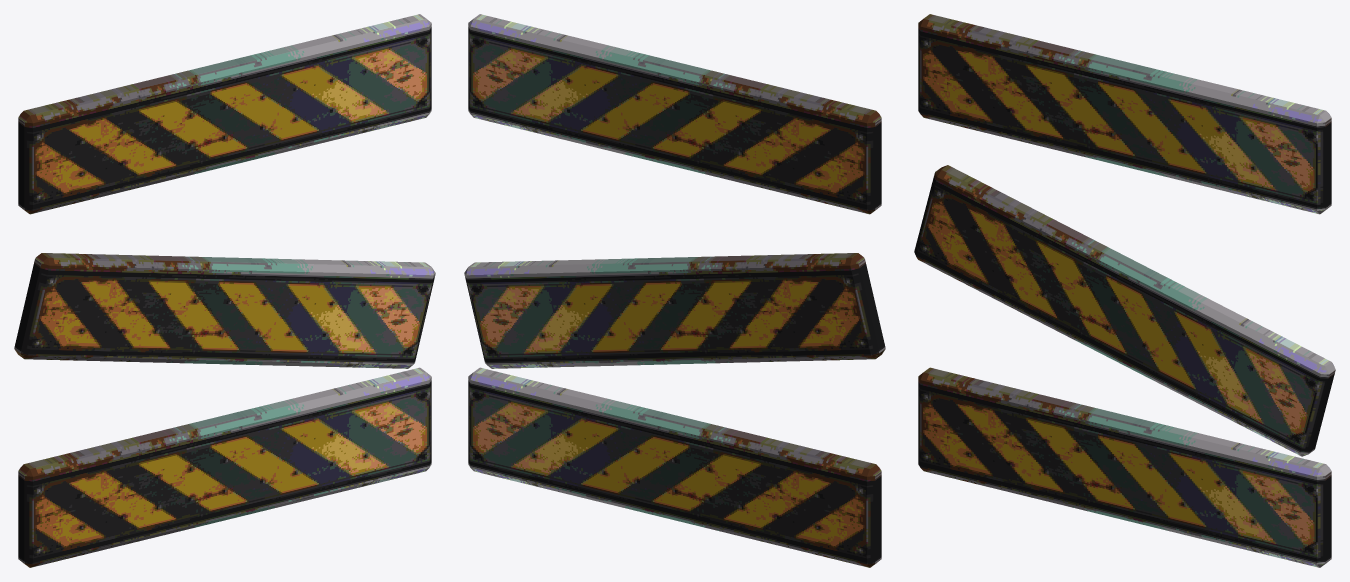
File: metalbeams.fbx
3 renders of one model, left to right at view 1: azimuth 30°, elevation 25°; view 2: azimuth 150°, elevation 25°; view 3: azimuth 330°, elevation 25°, orthographic.
Visible parts, largest first — view 1: pCube24; view 2: pCube24; view 3: pCube24.
Boxes of the visible parts, box(x1,y1,x2,y2) form: pCube24: box(14, 14, 435, 567); pCube24: box(464, 14, 885, 567); pCube24: box(914, 14, 1335, 567).
Size of the model in its own units: 220 by 229 by 11.55.
